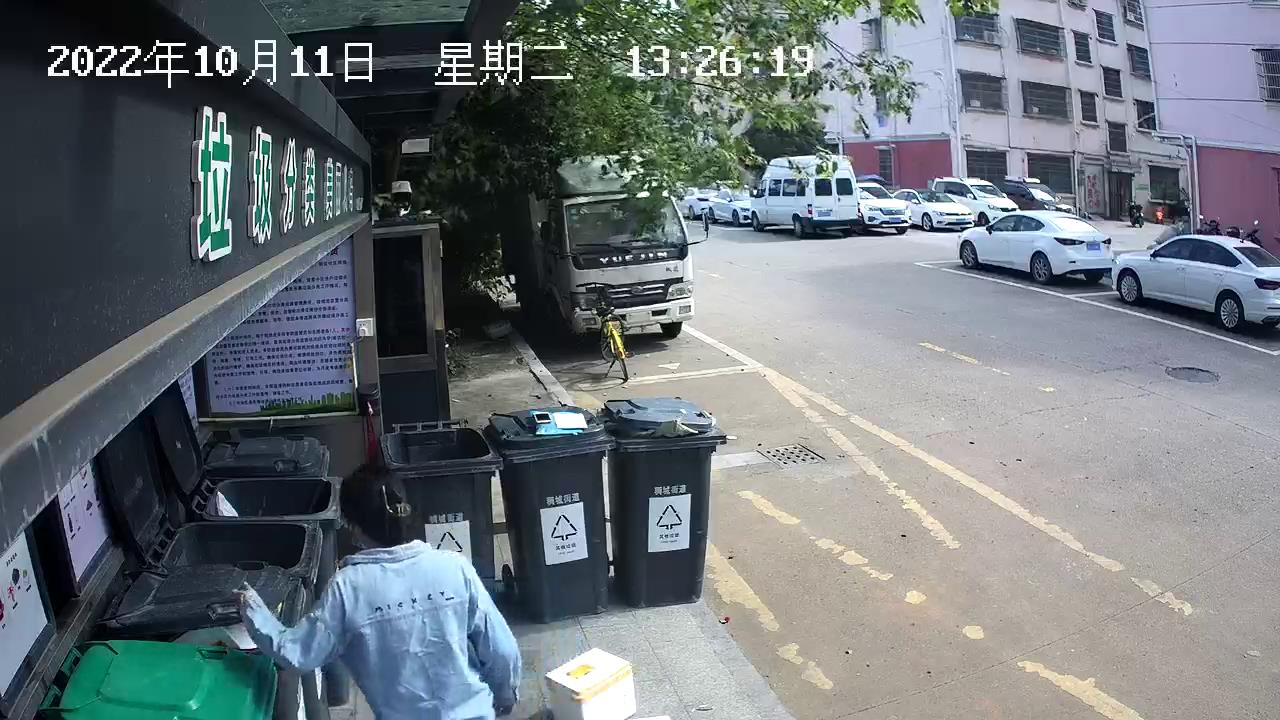worker: (225, 458, 530, 720)
zhizhipin: (228, 458, 531, 720), (541, 643, 643, 720)
